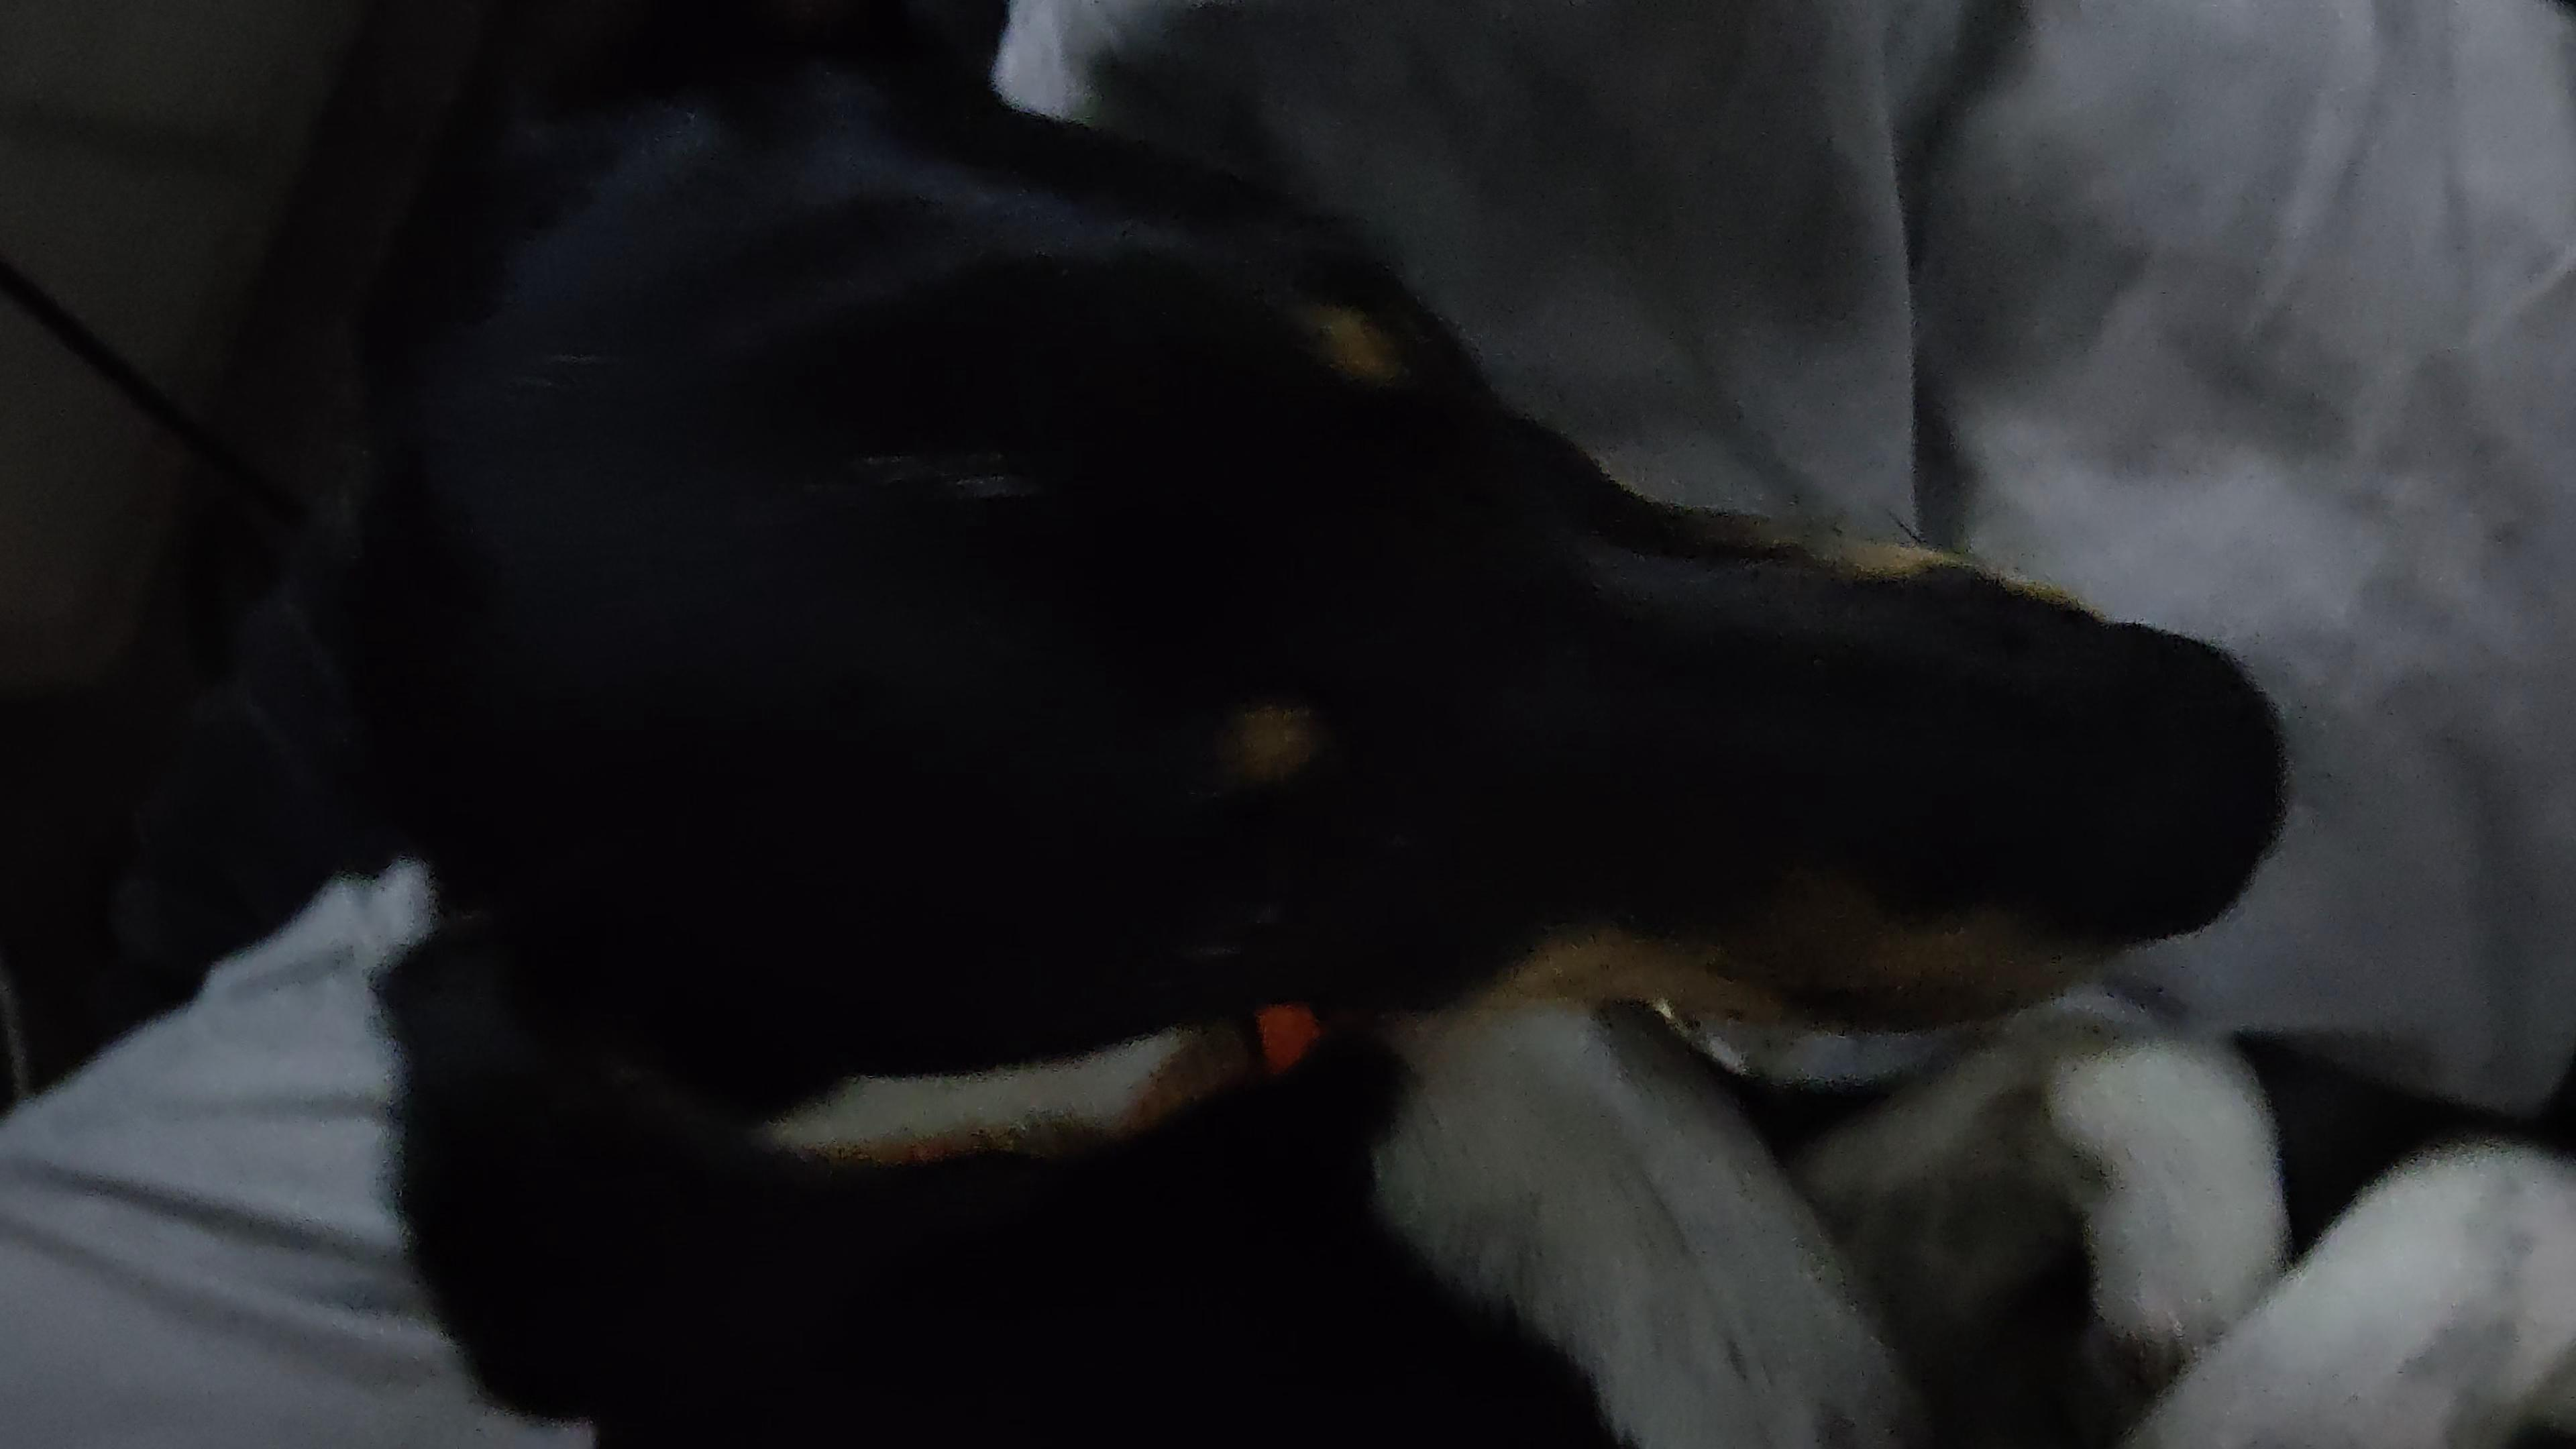Dog: (320, 0, 2576, 1449)
